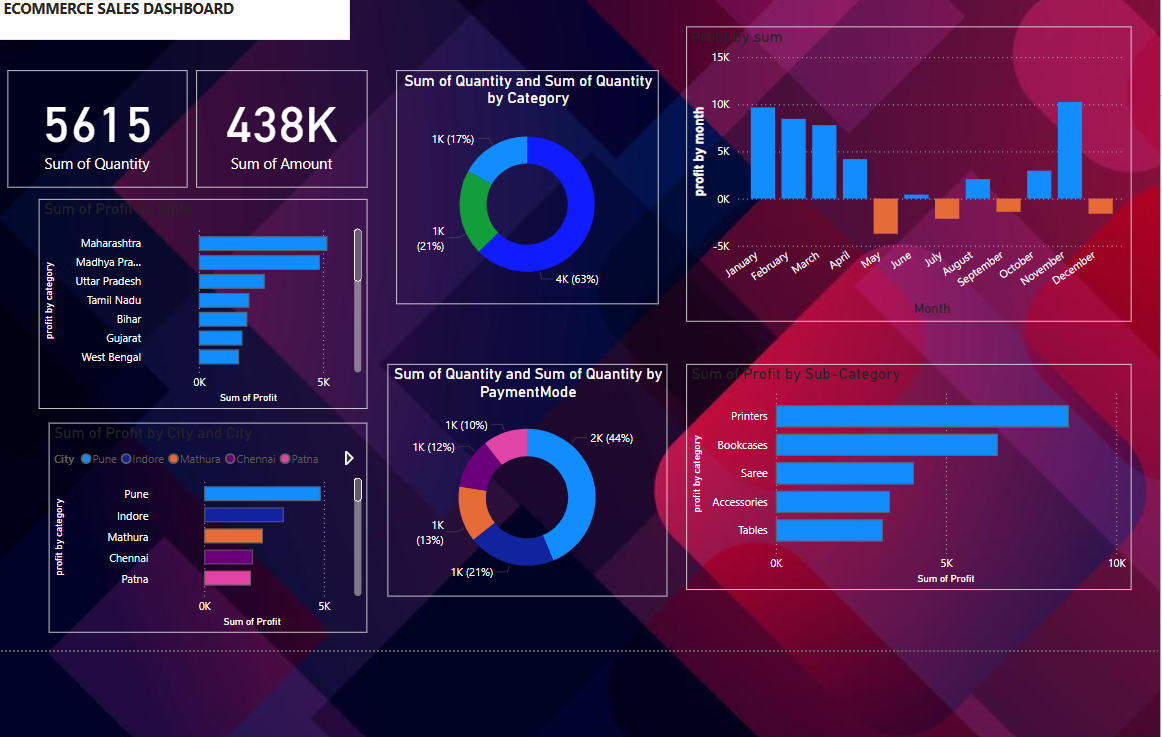

This screenshot's page, from the dashboard's own definition file:
{"tool":"powerbi","page":{"name":"Page 1","canvas":[1280,720],"ordinal":0},"visuals":[{"type":"textbox","box":[0,0,389.7,50.8],"z":0},{"type":"columnChart","title":"Profit by sum","fields":{"Category":["Orders.Order Date.Variation.Date Hierarchy.Month"],"Y":["Sum(Details.Profit)"]},"box":[758.8,35.7,488.5,323.8],"z":1000},{"type":"barChart","fields":{"Category":["Details.Sub-Category"],"Y":["Sum(Details.Profit)"]},"box":[758.8,406.2,488.5,248.4],"z":2000},{"type":"donutChart","fields":{"Category":["Details.Category"],"Y":["Sum(Details.Quantity)","Sum(Details.Quantity)"]},"box":[440.5,83.7,288.2,256.6],"z":3000},{"type":"donutChart","fields":{"Category":["Details.PaymentMode"],"Y":["Sum(Details.Quantity)","Sum(Details.Quantity)"]},"box":[430.9,406.2,307.4,255.2],"z":4000},{"type":"card","fields":{"Values":["Sum(Details.Amount)"]},"box":[220.9,83.7,188,129],"z":5000},{"type":"card","fields":{"Values":["Sum(Details.Quantity)"]},"box":[13.7,83.7,197.6,129],"z":6000},{"type":"barChart","fields":{"Y":["Sum(Details.Profit)"],"Category":["Orders.State"]},"box":[48,225,360.9,230.5],"z":7000},{"type":"barChart","fields":{"Y":["Sum(Details.Profit)"],"Series":["Orders.City"],"Category":["Orders.City"]},"box":[59,470.7,349.9,230.5],"z":8000}]}

Visuals, with their boxes in screenshot pixels (x1, y1, x2, y2):
textbox: 0/0/349/45
"Profit by sum" columnChart: 679/32/1117/322
barChart - Details.Sub-Category x Sum(Details.Profit): 679/364/1117/586
donutChart - Details.Category x Sum(Details.Quantity): 394/75/652/305
donutChart - Details.PaymentMode x Sum(Details.Quantity): 386/364/661/592
card - Sum(Details.Amount): 198/75/366/190
card - Sum(Details.Quantity): 12/75/189/190
barChart - Sum(Details.Profit) x Orders.State: 43/201/366/408
barChart - Sum(Details.Profit) x Orders.City: 53/421/366/628
